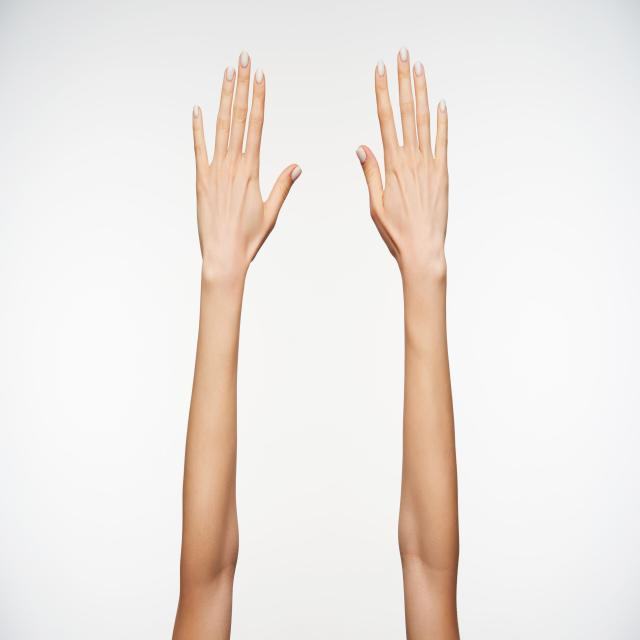piel: (168, 49, 308, 640), (354, 44, 463, 640)
